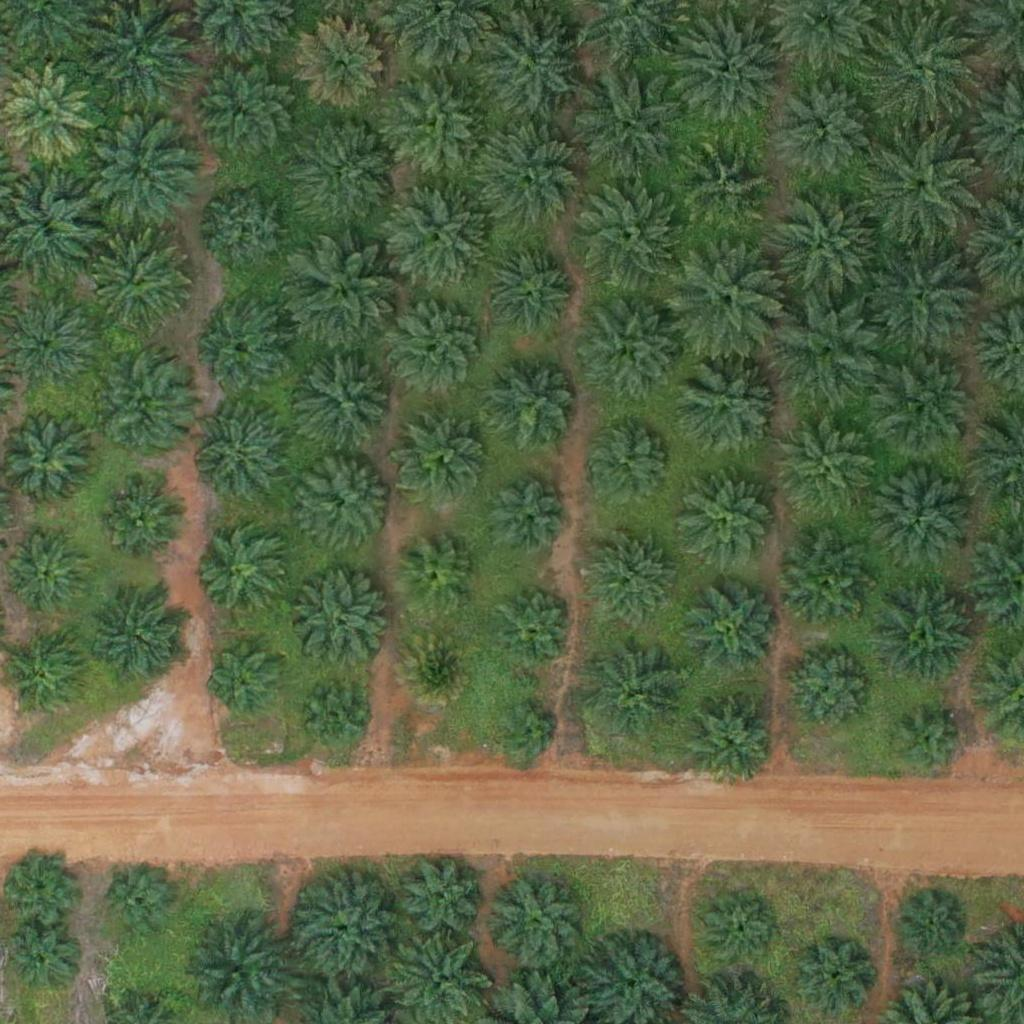Kelapa_Sawit: (83, 120, 196, 234), (865, 131, 978, 244), (864, 236, 977, 349), (767, 185, 880, 298), (476, 8, 589, 121), (861, 11, 973, 124), (773, 292, 885, 405), (671, 241, 783, 354), (570, 180, 682, 293), (670, 8, 782, 121), (574, 67, 686, 180), (292, 243, 404, 356), (879, 357, 979, 458), (873, 465, 973, 566), (874, 587, 974, 688), (780, 414, 880, 515), (779, 531, 879, 632), (678, 356, 778, 457), (677, 472, 777, 573), (581, 300, 681, 401), (478, 122, 578, 223), (389, 73, 489, 174), (196, 59, 296, 160), (298, 119, 398, 220), (91, 587, 191, 688), (292, 874, 392, 975), (680, 689, 780, 789), (586, 639, 686, 739), (388, 185, 488, 285), (386, 296, 486, 396), (90, 235, 190, 335), (94, 367, 194, 467), (296, 453, 396, 553), (292, 571, 392, 671), (681, 142, 769, 231), (1, 629, 89, 718), (785, 645, 873, 733), (399, 416, 487, 504), (296, 20, 384, 108), (1, 416, 89, 504), (302, 356, 390, 444), (103, 477, 191, 565), (4, 528, 92, 616), (690, 585, 777, 673), (584, 416, 671, 504), (586, 528, 673, 616), (483, 246, 570, 334), (489, 365, 576, 453), (782, 85, 869, 173), (3, 65, 90, 153), (204, 187, 291, 275), (205, 305, 292, 393), (196, 411, 283, 499), (202, 530, 289, 618), (397, 852, 484, 940), (491, 878, 578, 966), (399, 541, 474, 617), (489, 480, 564, 556), (702, 895, 777, 971), (891, 704, 966, 780), (496, 589, 571, 665), (400, 630, 475, 706), (298, 679, 373, 755), (799, 939, 874, 1014), (208, 638, 283, 713), (2, 927, 77, 1002), (100, 864, 175, 939), (900, 893, 963, 956), (498, 702, 560, 765)
